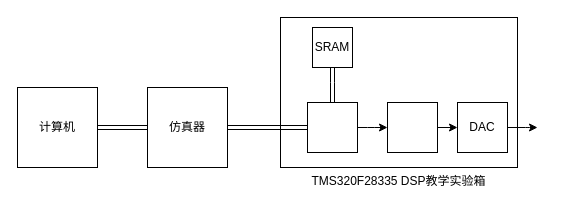
This 563x206 diagram has some shape labels left out. Here are the shapes that lost their labels. From the top down, the centre of each, then its label:
At pixel 332 127: "F28335".
At pixel 412 127: "CPLD".
